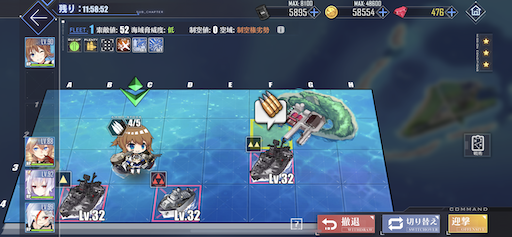lv1: (56, 171, 104, 218)
lv2: (246, 139, 292, 183)
lv3: (149, 171, 200, 218)
